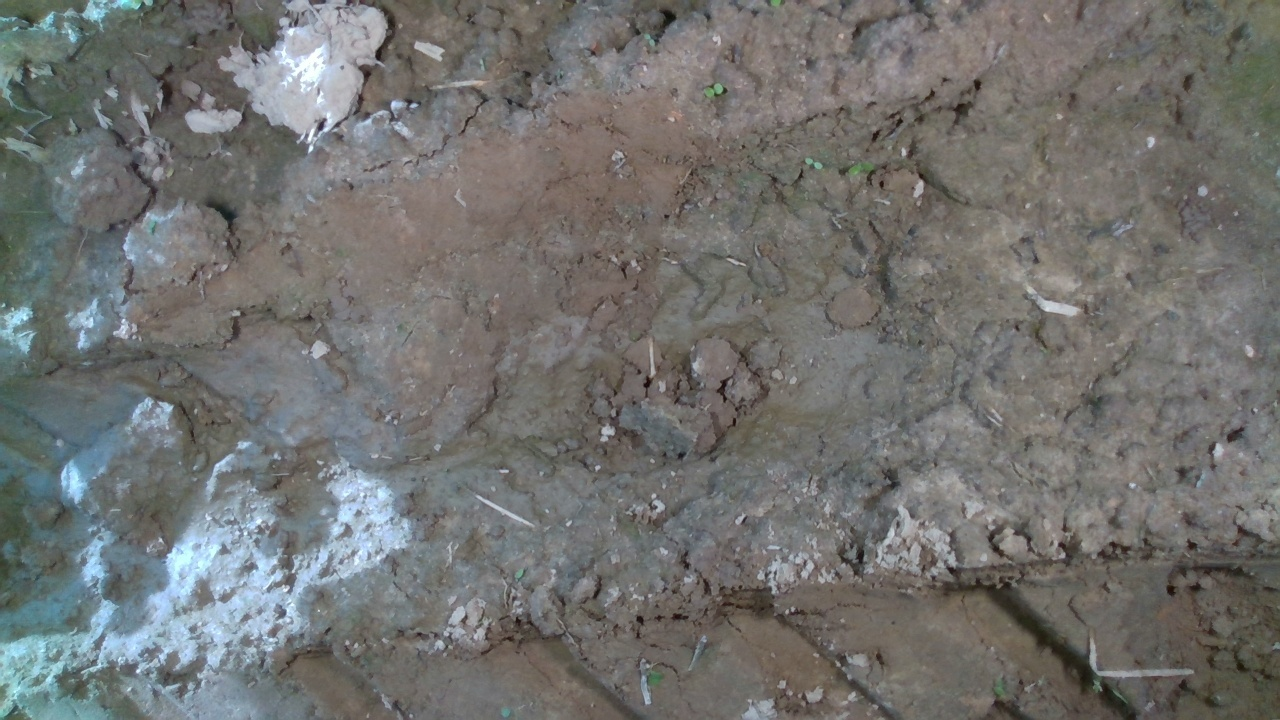weed: (701, 81, 725, 97), (804, 157, 824, 170), (642, 31, 657, 47)
